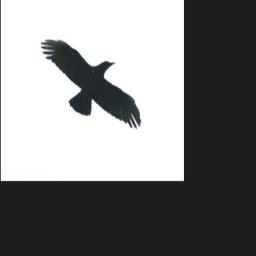Crow: (41, 39, 142, 129)
